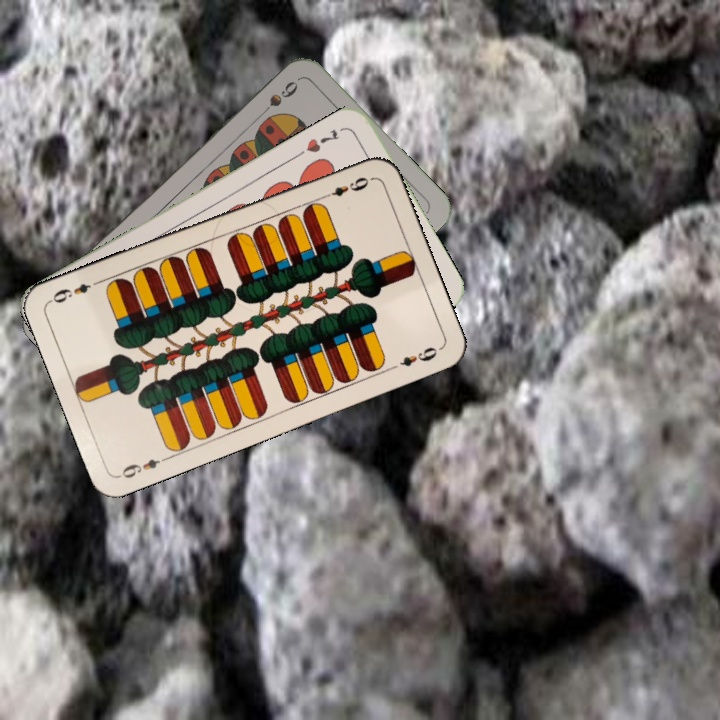E9: (115, 452, 172, 481), (317, 173, 375, 201)
H7: (302, 124, 343, 156)
S9: (254, 76, 301, 120)
